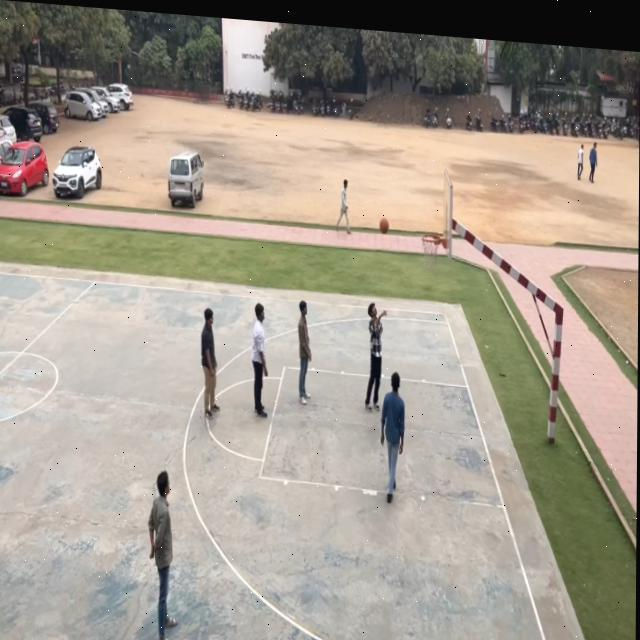basketball: (379, 215, 391, 241)
hoop: (422, 232, 441, 272)
